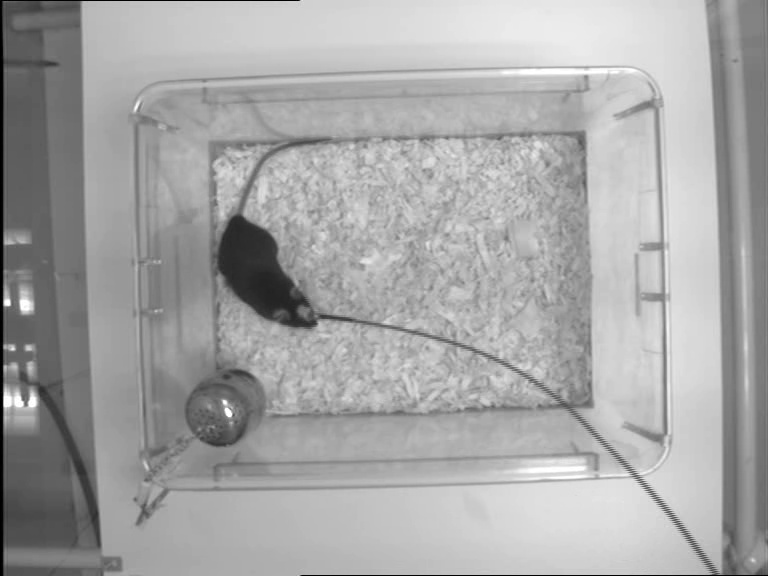mice: (217, 138, 320, 329)
